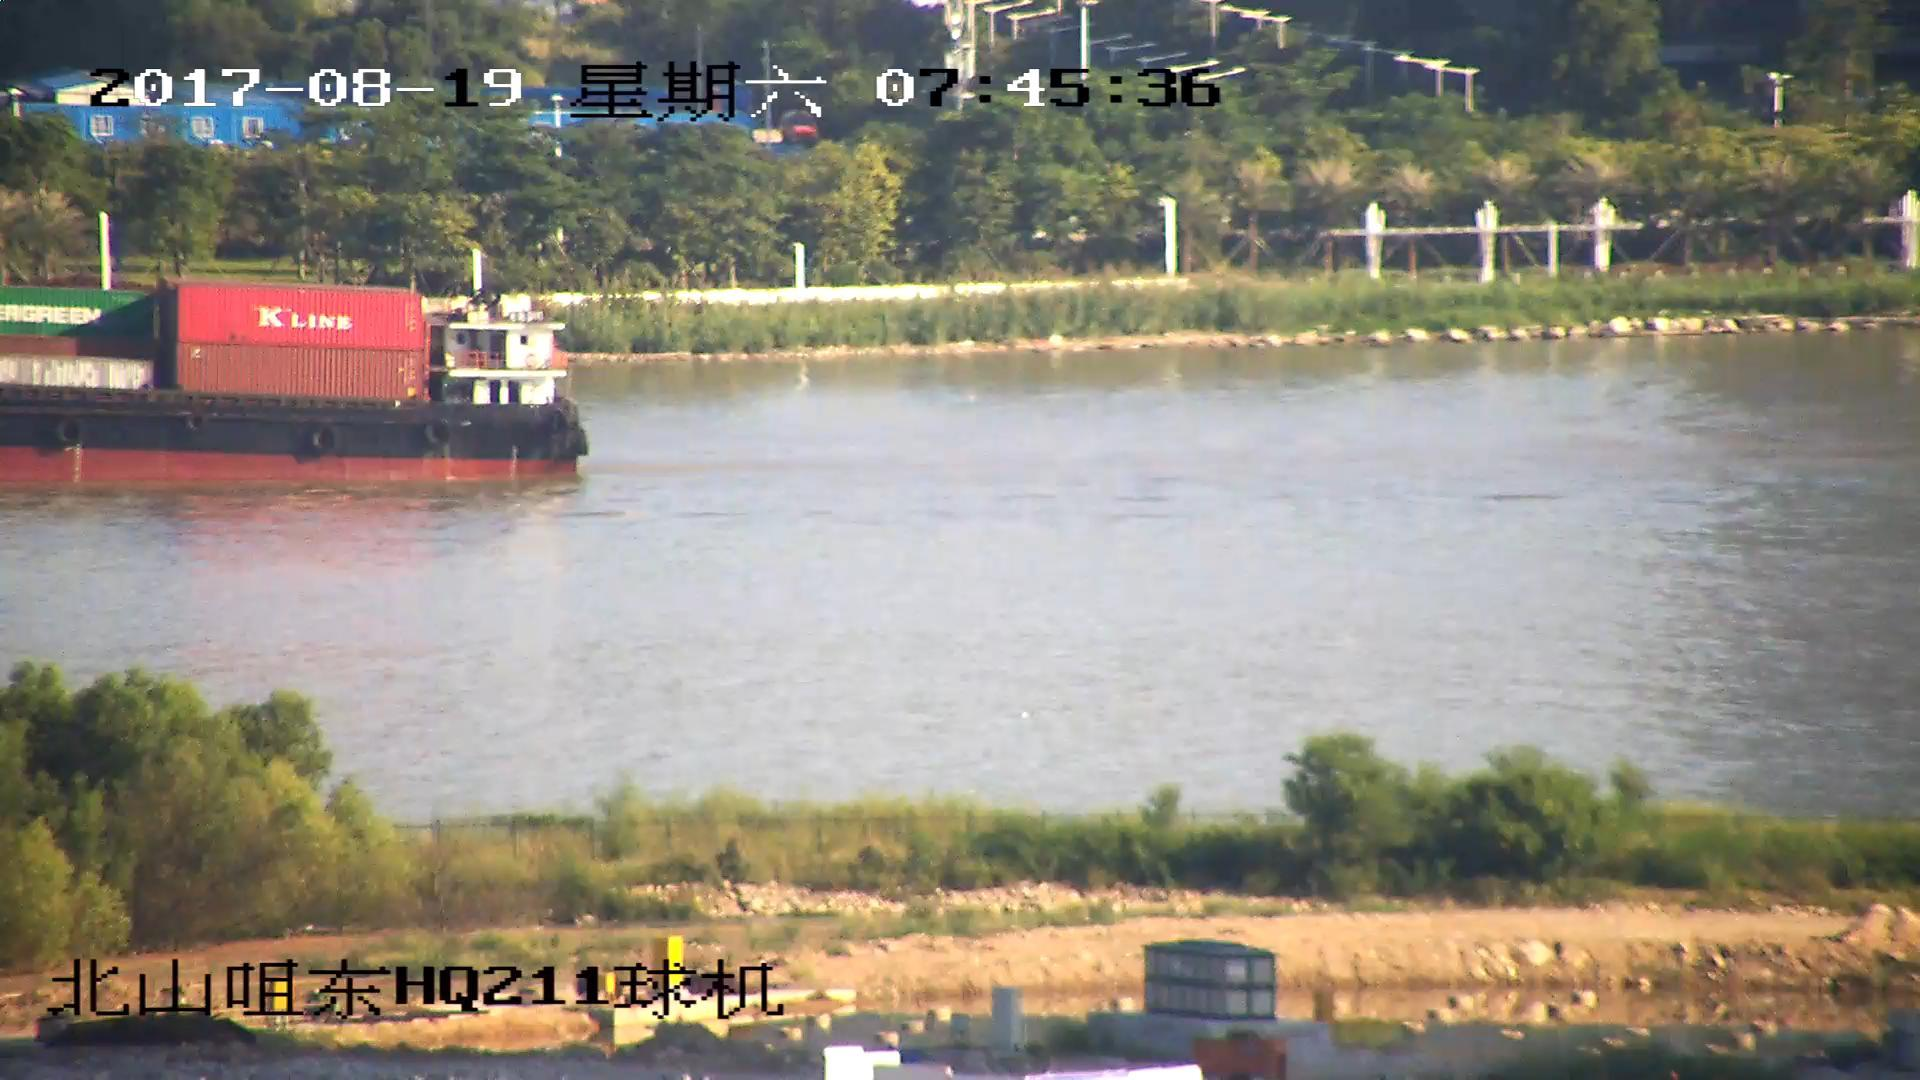Ship: (3, 274, 591, 487)
